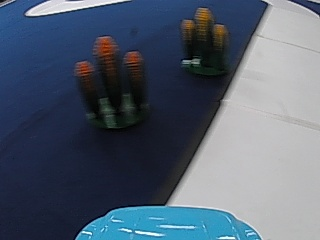corn: (76, 32, 149, 132), (179, 4, 231, 81)
